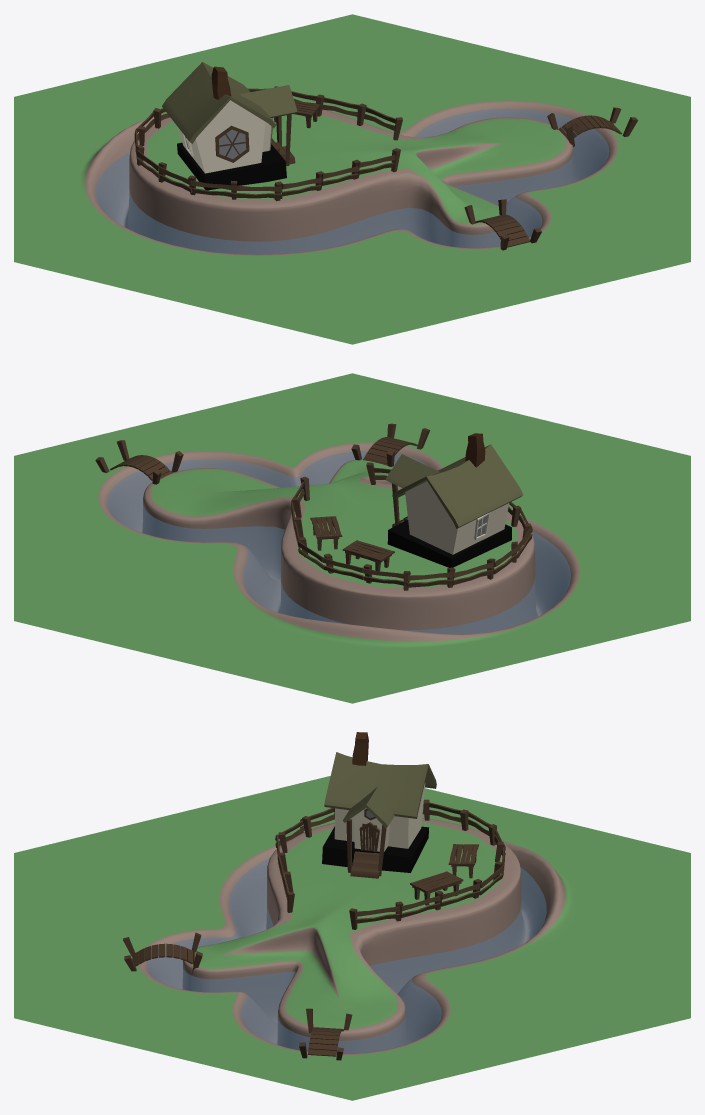
The model's file is t_merchant.fbx.
3 renders of one model, top to bottom at view 1: azimuth 30°, elevation 25°; view 2: azimuth 150°, elevation 25°; view 3: azimuth 270°, elevation 25°, orthographic.
Parts seen in each view (by area): view 1: pCylinder82, pCylinder31, polySurface25, pCube27, polySurface23, polySurface31, polySurface11, polySurface22, pCube94, pCube29; view 2: pCylinder82, pCylinder31, polySurface25, pCube27, polySurface23, pCube85, polySurface11, pCube84, polySurface22, pCube94, pCube29; view 3: pCylinder82, pCylinder31, polySurface25, pCube27, polySurface23, polySurface11, polySurface22, pCube84, polySurface24, pCube41, pCube85.
Boxes of the visible parts, x1,y1,x2,y2 form: pCylinder82: (14, 14, 690, 344); pCylinder31: (95, 109, 608, 254); polySurface25: (162, 62, 276, 173); pCube27: (177, 142, 286, 190); polySurface23: (239, 85, 297, 151); polySurface31: (215, 125, 249, 162); polySurface11: (475, 214, 530, 247); polySurface22: (558, 115, 621, 140); pCube94: (547, 107, 637, 146); pCube29: (211, 66, 231, 99); pCylinder82: (14, 373, 690, 703); pCylinder31: (107, 451, 570, 633); polySurface25: (392, 444, 523, 554); pCube27: (387, 520, 511, 567); polySurface23: (385, 454, 439, 488); pCube85: (342, 540, 394, 571); polySurface11: (363, 437, 417, 465); pCube84: (310, 516, 342, 550); polySurface22: (110, 455, 172, 480); pCube94: (95, 440, 183, 484); pCube29: (465, 433, 485, 467); pCylinder82: (14, 776, 690, 1100); pCylinder31: (147, 858, 546, 1053); polySurface25: (324, 752, 436, 848); pCube27: (322, 826, 429, 872); polySurface23: (343, 786, 394, 851); polySurface11: (132, 943, 195, 966); polySurface22: (307, 1027, 344, 1056); pCube84: (410, 871, 463, 905); polySurface24: (353, 808, 386, 852); pCube41: (350, 851, 379, 878); pCube85: (448, 844, 478, 878).
Bounding box in the file's own units: 20000 × 5424 × 17321.
